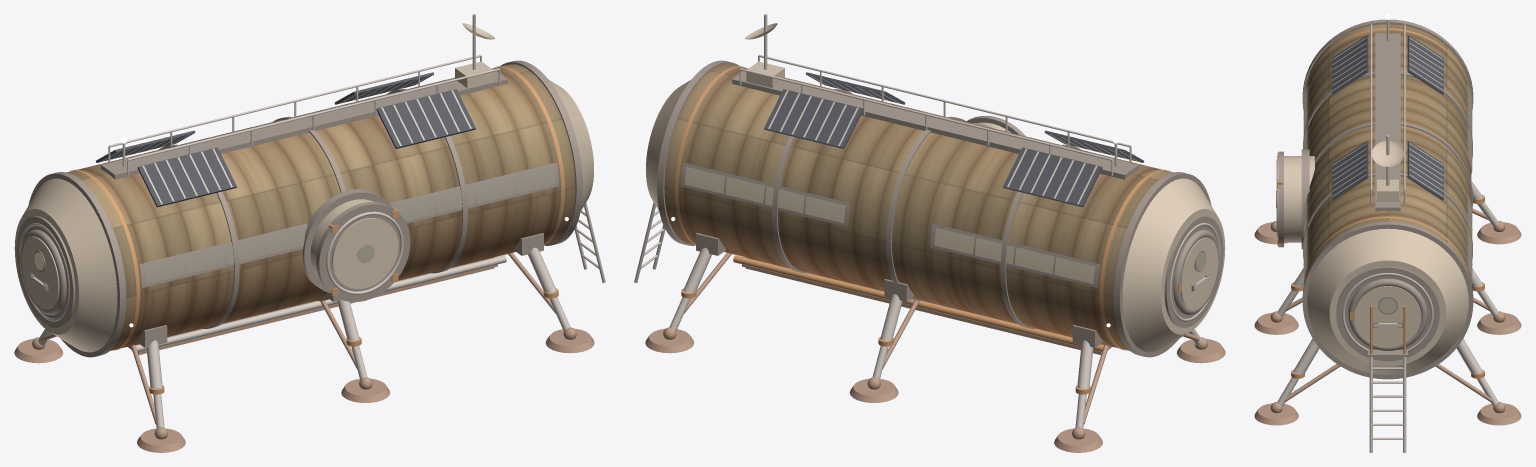
The model's file is W02_sideport.glb.
The picture shows the model from 3 angles, left to right: view 1: azimuth 30°, elevation 25°; view 2: azimuth 150°, elevation 25°; view 3: azimuth 270°, elevation 25°; orthographic projection. The views are drawn at different scales.
Visible parts, largest first — view 1: hull, endcone (×2), radiator_panel (×4), window_strip (×2), roof_spine, joint_ring (×2), port_door, footpad (×4), port_flange, roof_rail (×2), window_frame (×2), pipe (+12 smaller); view 2: hull, endcone (×2), radiator_panel (×4), window_strip (×2), roof_spine, joint_ring (×2), footpad (×4), rib (×3), window_frame (×2), roof_rail (×2), pipe, end_ring (+7 smaller); view 3: hull, endcone, radiator_panel (×4), joint_ring (×2), footpad (×6), roof_spine, hatch_door, end_ring, port_tunnel, rib (×3), access_ladder, hatch_frame (+10 smaller).
Part boxes in pixels (x1,y1,x2,y2): hull: [66, 64, 575, 350]; endcone (×2): [14, 79, 593, 352]; radiator_panel (×4): [96, 72, 475, 207]; window_strip (×2): [144, 167, 555, 284]; roof_spine: [101, 69, 507, 179]; joint_ring (×2): [28, 60, 582, 357]; port_door: [332, 218, 398, 288]; footpad (×4): [14, 328, 594, 452]; port_flange: [316, 202, 410, 301]; roof_rail (×2): [108, 54, 500, 175]; window_frame (×2): [139, 162, 559, 288]; pipe: [131, 255, 506, 351]; hull: [664, 64, 1173, 350]; endcone (×2): [646, 79, 1225, 352]; radiator_panel (×4): [764, 72, 1143, 207]; window_strip (×2): [684, 167, 1095, 284]; roof_spine: [732, 69, 1138, 179]; joint_ring (×2): [657, 60, 1211, 357]; footpad (×4): [645, 328, 1225, 452]; rib (×3): [772, 89, 1081, 328]; window_frame (×2): [680, 162, 1100, 288]; roof_rail (×2): [739, 54, 1131, 175]; pipe: [733, 255, 1108, 351]; end_ring: [1164, 216, 1223, 327]; hull: [1304, 24, 1471, 281]; endcone: [1307, 228, 1468, 374]; radiator_panel (×4): [1332, 35, 1443, 200]; joint_ring (×2): [1302, 19, 1473, 379]; footpad (×6): [1254, 222, 1521, 425]; roof_spine: [1375, 33, 1400, 211]; hatch_door: [1354, 286, 1421, 346]; end_ring: [1336, 266, 1439, 361]; port_tunnel: [1284, 156, 1314, 242]; rib (×3): [1303, 71, 1472, 259]; access_ladder: [1369, 306, 1406, 452]; hatch_frame: [1348, 278, 1427, 350].
Size of the model in its own units: 10.52 by 5.25 by 4.8.
Materials: 11 (1 with a texture image).
